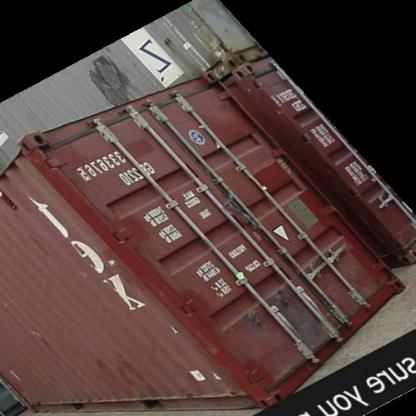Damage: (274, 289, 334, 343), (0, 357, 38, 391), (11, 318, 52, 346), (96, 358, 136, 382), (163, 320, 188, 336), (0, 292, 26, 307)
